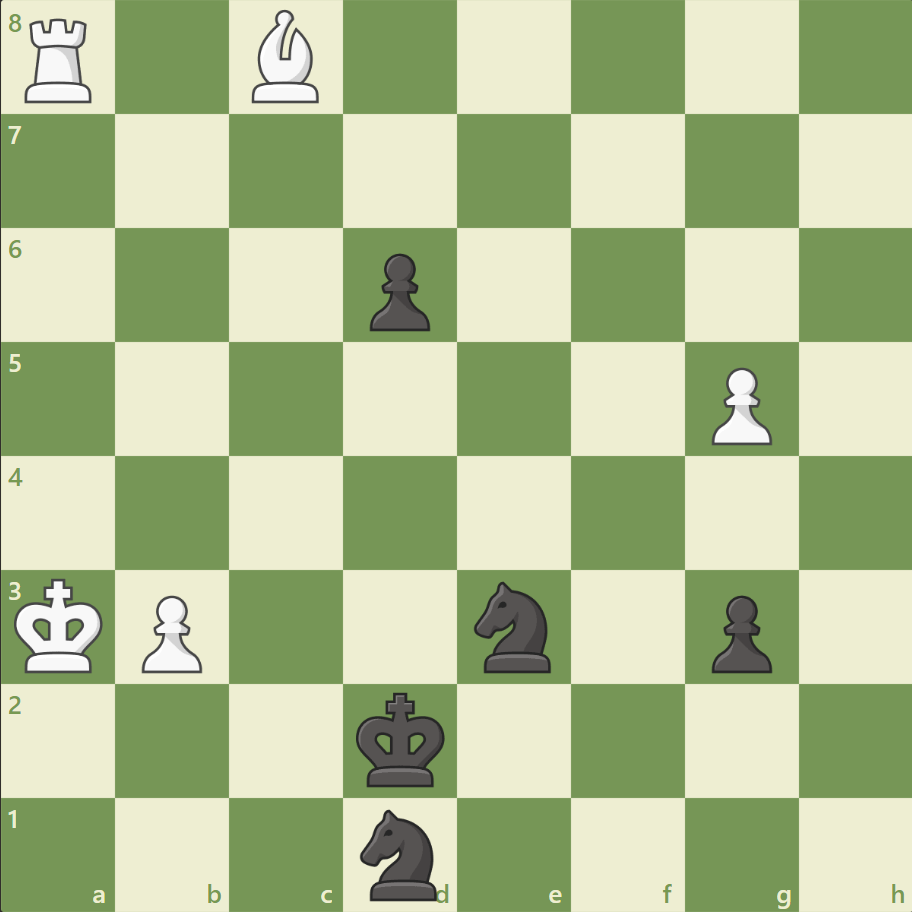B: (244, 6, 328, 109)
K: (11, 571, 111, 679)
P: (701, 359, 776, 450), (133, 586, 208, 677)
R: (19, 12, 102, 109)
k: (351, 685, 451, 793)
n: (351, 802, 449, 904), (465, 575, 562, 677)
p: (701, 586, 776, 677), (361, 246, 435, 337)
